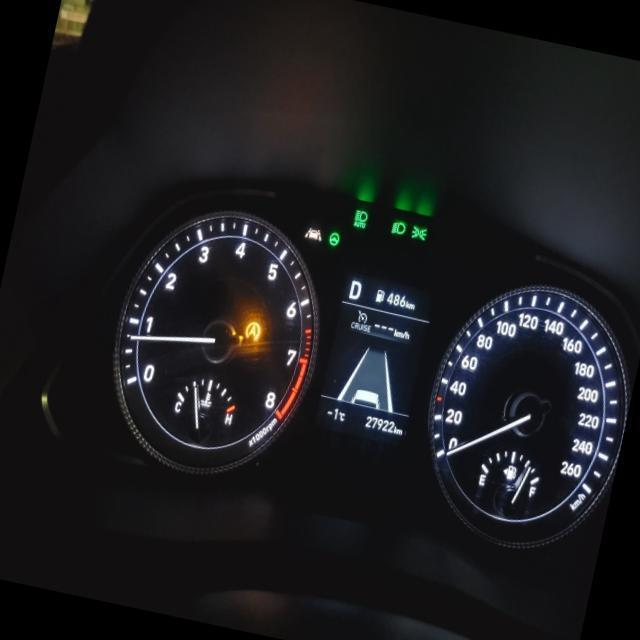LaneCenteringOff: (304, 224, 322, 241)
Low beam: (390, 220, 406, 236)
SideLamp: (409, 223, 428, 241)
